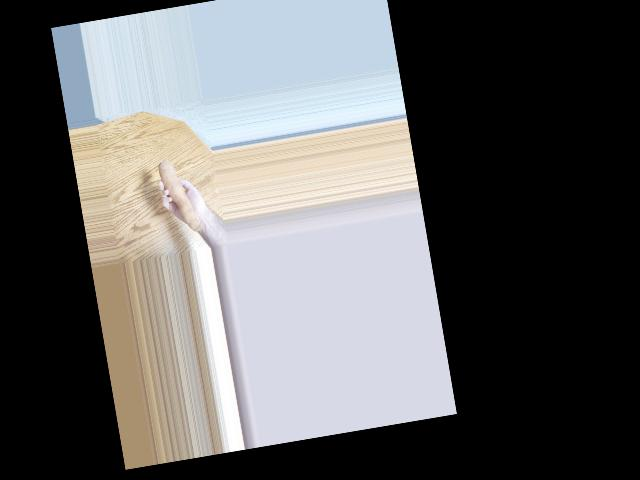sweet_potato: (151, 145, 195, 227)
